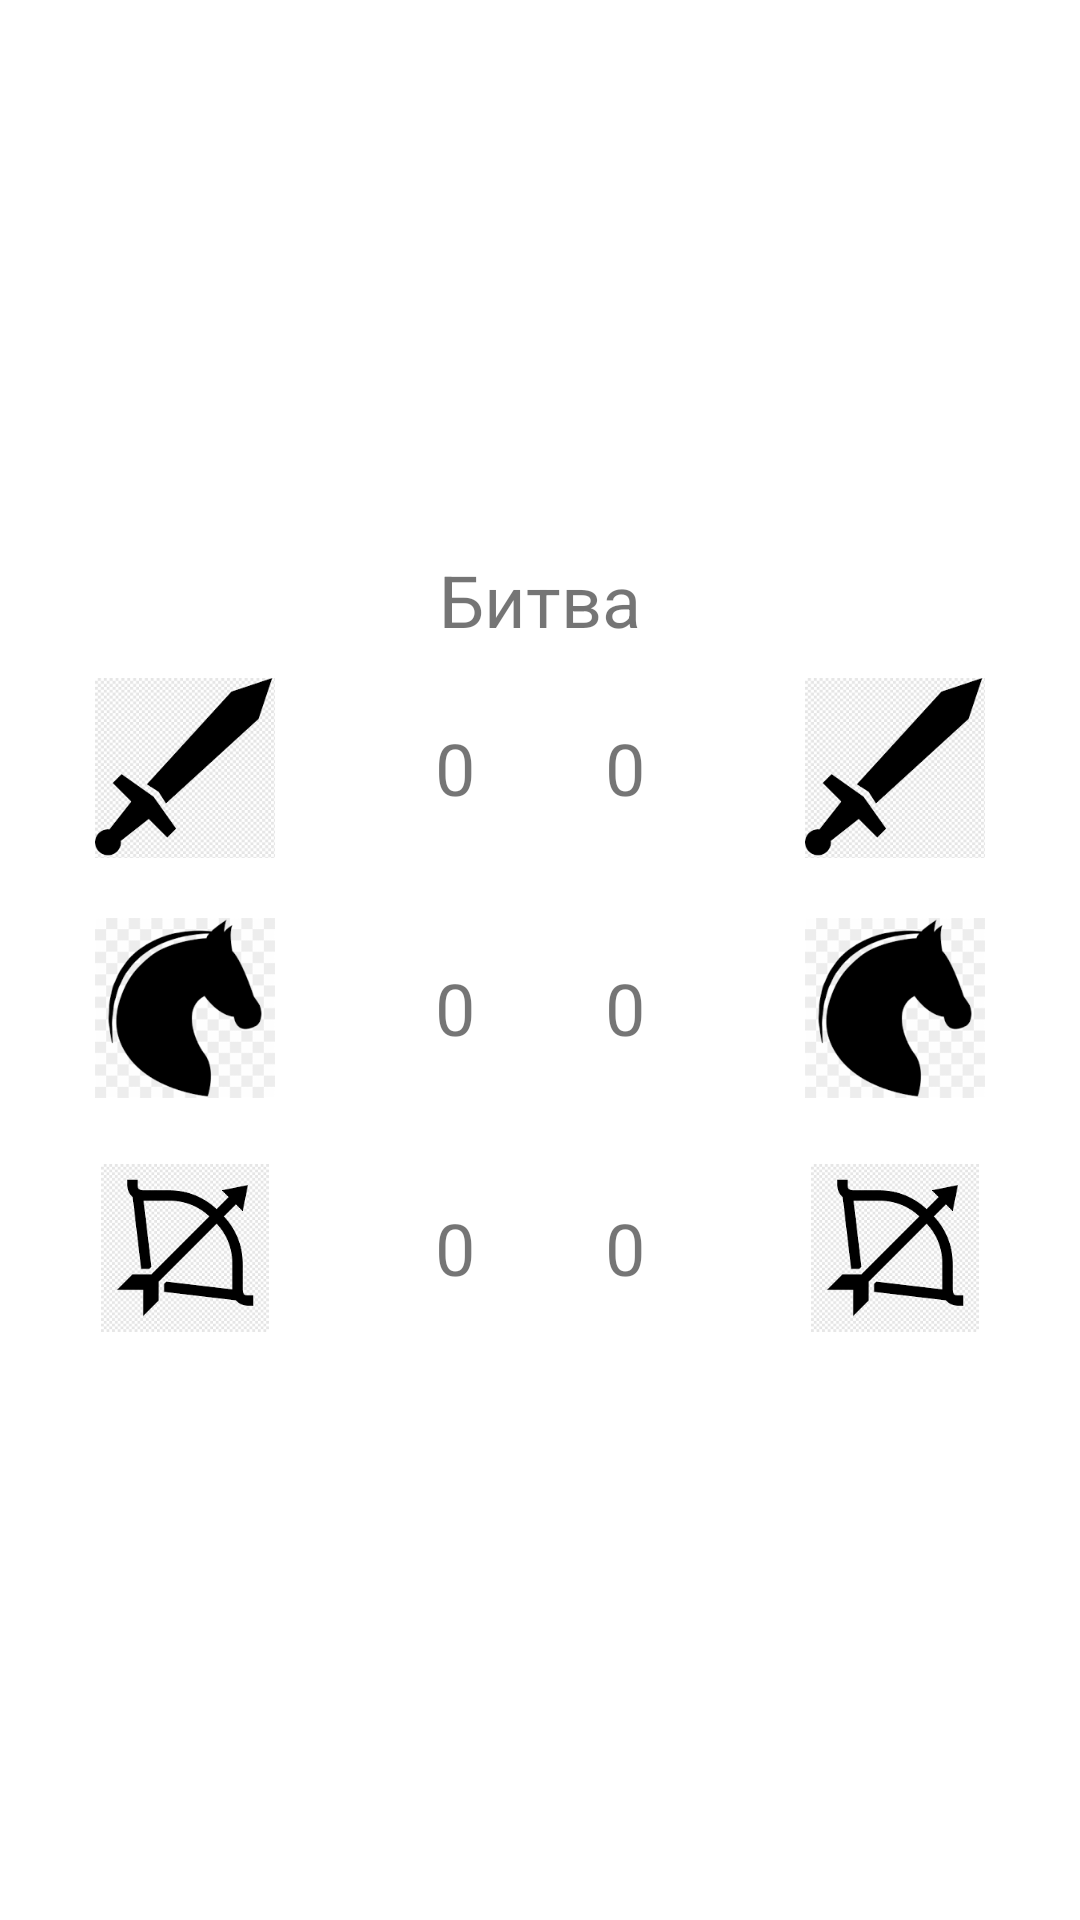

Where icons sit on this 1080*1920 app screen, as (x1, y1, x2, y2):
luk: (101, 1164, 269, 1332), (811, 1164, 979, 1332)
mech: (95, 678, 275, 858), (805, 678, 985, 858)
